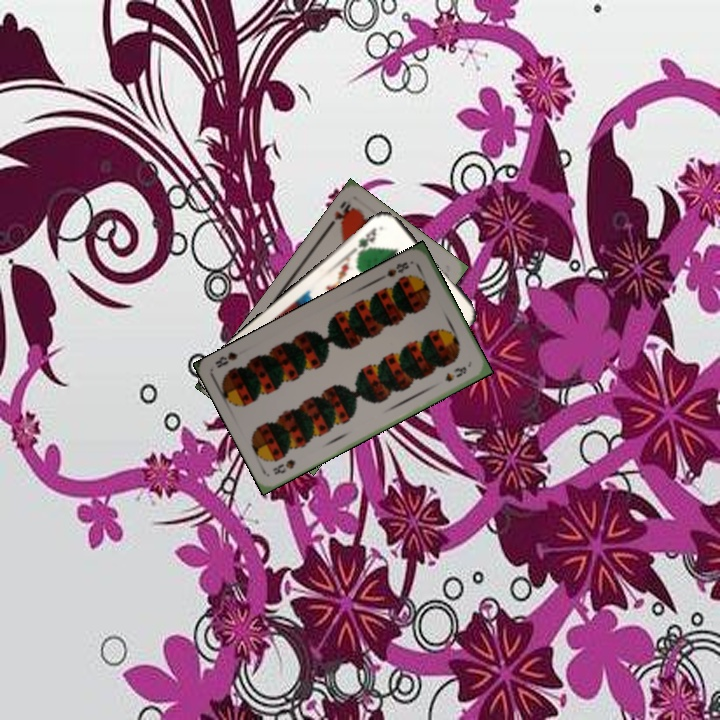GK: (354, 223, 379, 255)
HO: (323, 197, 356, 232)
S8: (378, 258, 412, 282), (268, 455, 298, 477)
